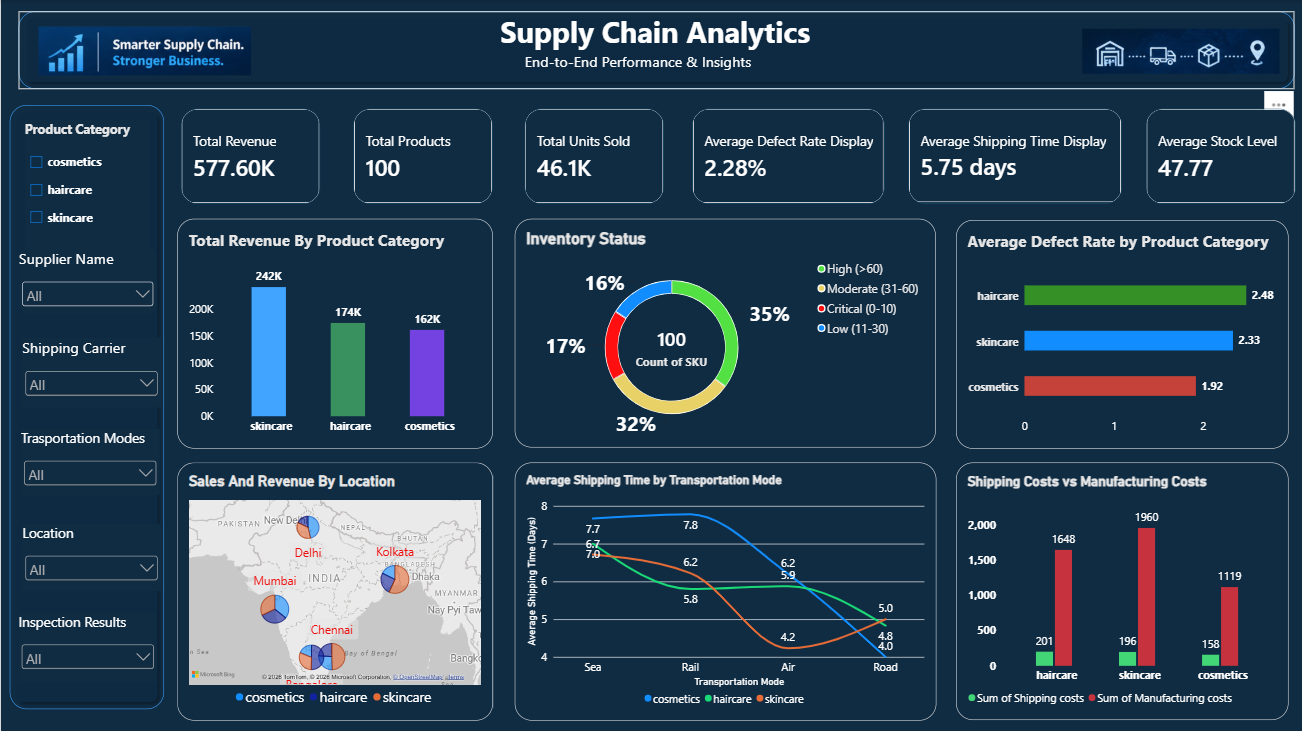

This screenshot's page, from the dashboard's own definition file:
{"tool":"powerbi","page":{"name":"Page 1","canvas":[1920,1080],"ordinal":0},"visuals":[{"type":"shape","box":[13.2,154.2,227.6,889.7],"z":0},{"type":"shape","box":[26.3,16.9,1879,114.7],"z":1000},{"type":"textbox","box":[671.8,16.6,721.5,79.1],"z":2000},{"type":"textbox","box":[848.5,73.6,357.1,40.5],"z":3000},{"type":"slicer","title":"Product Category","fields":{"Values":["supply_chain_data_csv.Product type"]},"box":[35.7,176.8,182.4,188.1],"z":4000},{"type":"slicer","title":"Supplier Name","fields":{"Values":["supply_chain_data_csv.Supplier name"]},"box":[26.3,364.9,204.3,97.5],"z":5000},{"type":"slicer","title":"Shipping Carrier","fields":{"Values":["supply_chain_data_csv.Shipping carriers"]},"box":[32,496.6,204.3,103.1],"z":6000},{"type":"slicer","title":"Trasportation Modes","fields":{"Values":["supply_chain_data_csv.Transportation modes"]},"box":[30.1,632,204.3,97.5],"z":7000},{"type":"slicer","title":"Location","fields":{"Values":["supply_chain_data_csv.Location"]},"box":[32,771.2,204.3,99.4],"z":8000},{"type":"slicer","title":"Inspection Results","fields":{"Values":["supply_chain_data_csv.Inspection results"]},"box":[26.3,900.9,204.3,101.2],"z":9000},{"type":"cardVisual","title":"Total Revenue","fields":{"Data":["supply_chain_data_csv.Total Revenue"]},"box":[265,160.1,205,140],"z":10000},{"type":"cardVisual","title":"Total Revenue","fields":{"Data":["supply_chain_data_csv.Total Products"]},"box":[519,160.1,205,140],"z":11000},{"type":"cardVisual","title":"Total Revenue","fields":{"Data":["supply_chain_data_csv.Total Units Sold"]},"box":[771.2,160.1,205,140],"z":12000},{"type":"cardVisual","title":"Total Revenue","fields":{"Data":["supply_chain_data_csv.Average Shipping Time Display"]},"box":[1336.2,160.1,314.7,139.9],"z":13000},{"type":"cardVisual","title":"Total Revenue","fields":{"Data":["supply_chain_data_csv.Average Stock Level"]},"box":[1685.9,160.1,220.9,140],"z":14000},{"type":"cardVisual","title":"Total Revenue","fields":{"Data":["supply_chain_data_csv.Average Defect Rate Display"]},"box":[1017.8,160.1,283,140],"z":15000},{"type":"clusteredColumnChart","title":"Total Revenue By Product Category","fields":{"Category":["supply_chain_data_csv.Product type"],"Y":["supply_chain_data_csv.Total Revenue"]},"box":[259.6,321.6,464.6,338.6],"z":16000},{"type":"donutChart","title":"Inventory Status","fields":{"Category":["supply_chain_data_csv.Stock Status"],"Y":["CountNonNull(supply_chain_data_csv.SKU)"]},"box":[756.4,322.1,620.2,336.8],"z":17000},{"type":"clusteredBarChart","title":"Average Defect Rate by Product Category","fields":{"Category":["supply_chain_data_csv.Product type"],"Y":["supply_chain_data_csv.Average Defect Rate"]},"box":[1406.1,323.9,489.6,336.8],"z":18000},{"type":"lineClusteredColumnComboChart","title":"Shipping Costs vs Manufacturing Costs","fields":{"Category":["supply_chain_data_csv.Product type"],"Y":["Sum(supply_chain_data_csv.Shipping costs)","Sum(supply_chain_data_csv.Manufacturing costs)"]},"box":[1406.1,681,489.6,379.1],"z":19000},{"type":"map","title":"Sales And Revenue By Location","fields":{"Category":["supply_chain_data_csv.Location"],"Series":["supply_chain_data_csv.Product type"],"Size":["Sum(supply_chain_data_csv.Revenue generated)"]},"box":[259.6,680.9,464.6,379.9],"z":20000},{"type":"lineChart","title":"Average Shipping Time by Transportation Mode","fields":{"Category":["supply_chain_data_csv.Transportation modes"],"Series":["supply_chain_data_csv.Product type"],"Y":["supply_chain_data_csv.Average Shipping Time"]},"box":[756.1,680.9,620.7,379.9],"z":21000},{"type":"image","box":[55.2,36.8,312.9,77.3],"z":22000},{"type":"image","box":[1592,29.4,290.8,92],"z":22001}]}

Visuals, with their boxes in screenshot pixels (x1, y1, x2, y2), scaled from the page's 1920x1080 canvas onto the 1302x731 screenshot:
shape: bbox(9, 104, 163, 707)
shape: bbox(18, 11, 1292, 89)
textbox: bbox(456, 11, 945, 65)
textbox: bbox(575, 50, 818, 77)
"Product Category" slicer: bbox(24, 120, 148, 247)
"Supplier Name" slicer: bbox(18, 247, 156, 313)
"Shipping Carrier" slicer: bbox(22, 336, 160, 406)
"Trasportation Modes" slicer: bbox(20, 428, 159, 494)
"Location" slicer: bbox(22, 522, 160, 589)
"Inspection Results" slicer: bbox(18, 610, 156, 678)
"Total Revenue" cardVisual: bbox(180, 108, 319, 203)
"Total Revenue" cardVisual: bbox(352, 108, 491, 203)
"Total Revenue" cardVisual: bbox(523, 108, 662, 203)
"Total Revenue" cardVisual: bbox(906, 108, 1120, 203)
"Total Revenue" cardVisual: bbox(1143, 108, 1293, 203)
"Total Revenue" cardVisual: bbox(690, 108, 882, 203)
"Total Revenue By Product Category" clusteredColumnChart: bbox(176, 218, 491, 447)
"Inventory Status" donutChart: bbox(513, 218, 934, 446)
"Average Defect Rate by Product Category" clusteredBarChart: bbox(954, 219, 1286, 447)
"Shipping Costs vs Manufacturing Costs" lineClusteredColumnComboChart: bbox(954, 461, 1286, 718)
"Sales And Revenue By Location" map: bbox(176, 461, 491, 718)
"Average Shipping Time by Transportation Mode" lineChart: bbox(513, 461, 934, 718)
image: bbox(37, 25, 250, 77)
image: bbox(1080, 20, 1277, 82)
